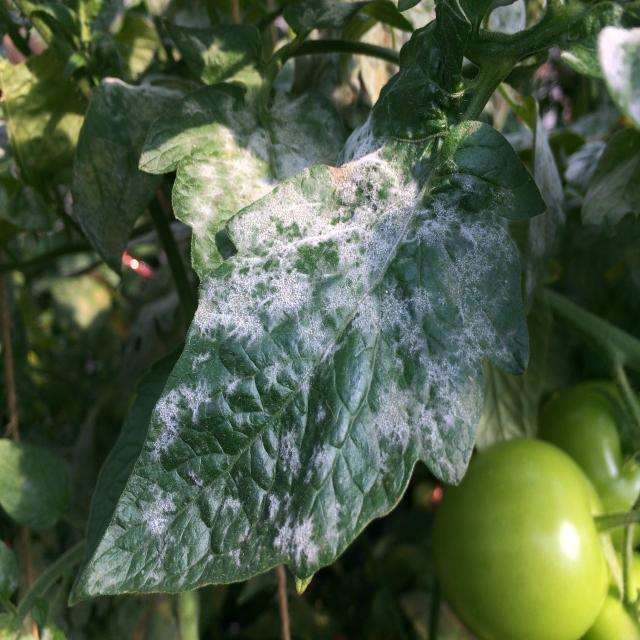Powdery Mildew: (74, 136, 531, 600)
